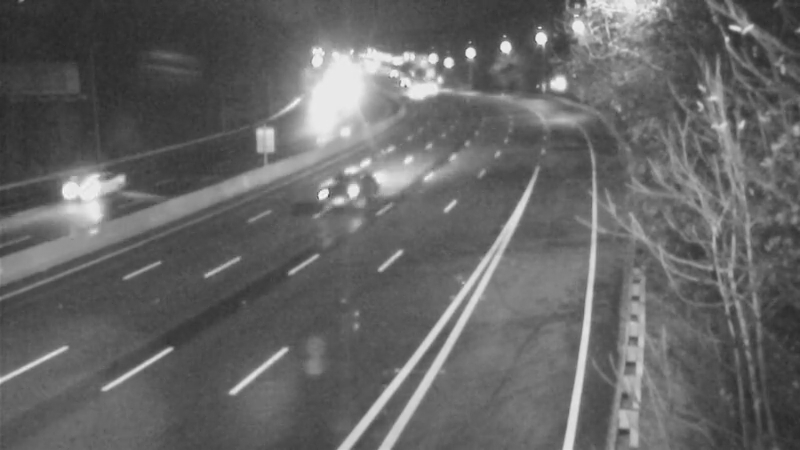vehicle: (301, 151, 381, 231), (43, 152, 123, 232), (405, 61, 455, 111), (390, 67, 440, 117)
